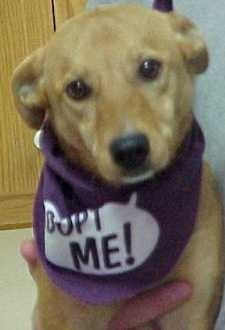dog: (11, 18, 225, 309)
